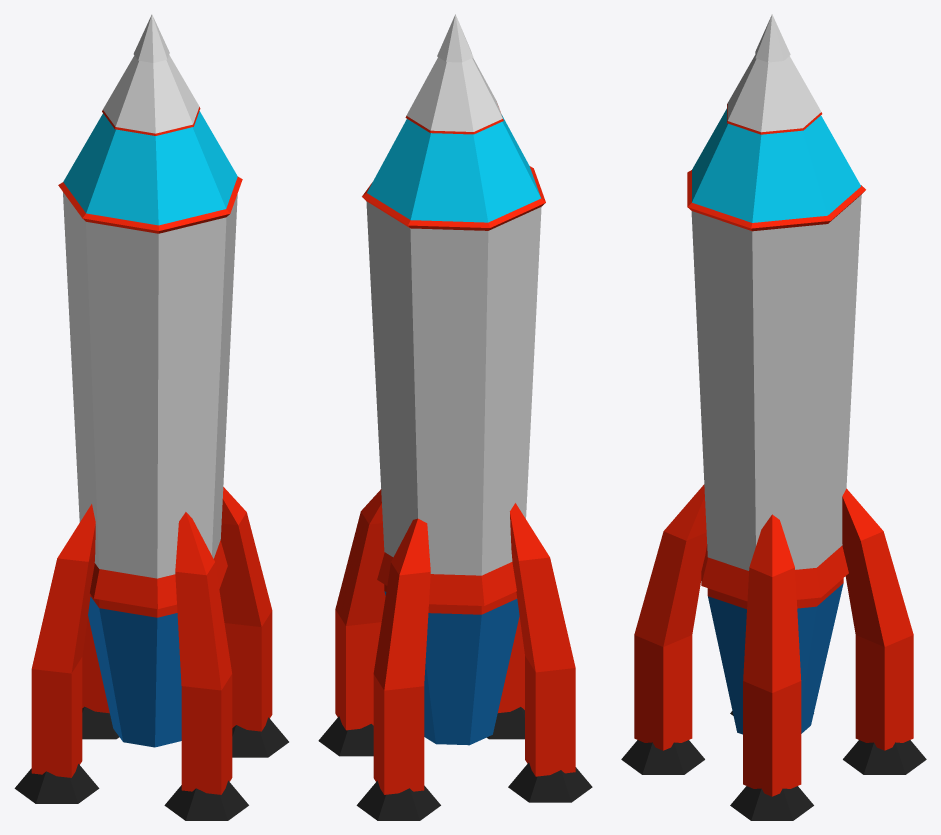
The model's file is Menu Rocket.fbx.
3 views of the same model, side by side, from view 1: azimuth 30°, elevation 25°; view 2: azimuth 150°, elevation 25°; view 3: azimuth 270°, elevation 25° (orthographic).
Parts seen in each view (by area): view 1: Rocket v2; view 2: Rocket v2; view 3: Rocket v2.
Part boxes in pixels (bbox=[...]): Rocket v2: bbox=[14, 14, 288, 820]; Rocket v2: bbox=[318, 14, 592, 820]; Rocket v2: bbox=[621, 14, 926, 820].
Bounding box in the file's own units: 203 × 576 × 214.
